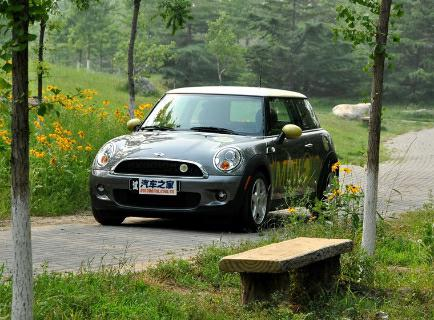MINI: (89, 86, 337, 231)
